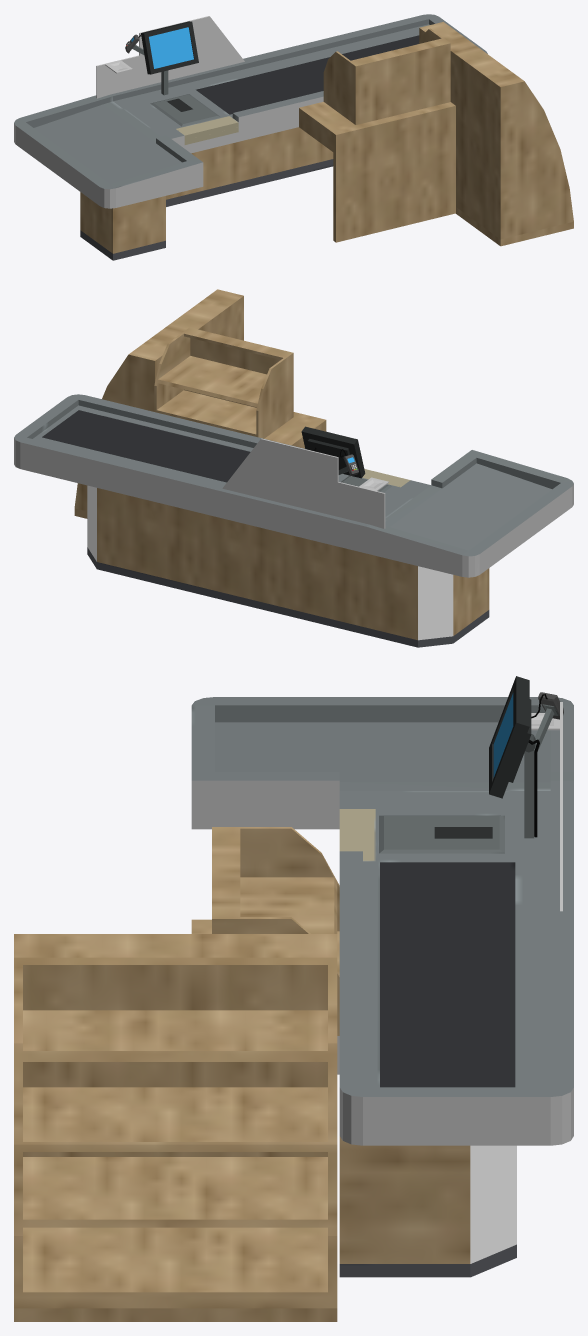
The model's file is checkOut.fbx.
3 views of the same model, one above another, from view 1: azimuth 30°, elevation 25°; view 2: azimuth 150°, elevation 25°; view 3: azimuth 270°, elevation 25° (orthographic). The views are drawn at different scales.
Parts seen in each view (by area): view 1: checkout, flap; view 2: checkout; view 3: checkout, flap.
Boxes of the visible parts, <box> form: checkout: <box>14,14,573,260</box>; flap: <box>177,116,237,140</box>; checkout: <box>14,289,573,647</box>; checkout: <box>14,676,573,1321</box>; flap: <box>339,809,374,860</box>.
Size of the model in its own units: 417 by 166 by 240.
Materials: 2 (1 with a texture image).
